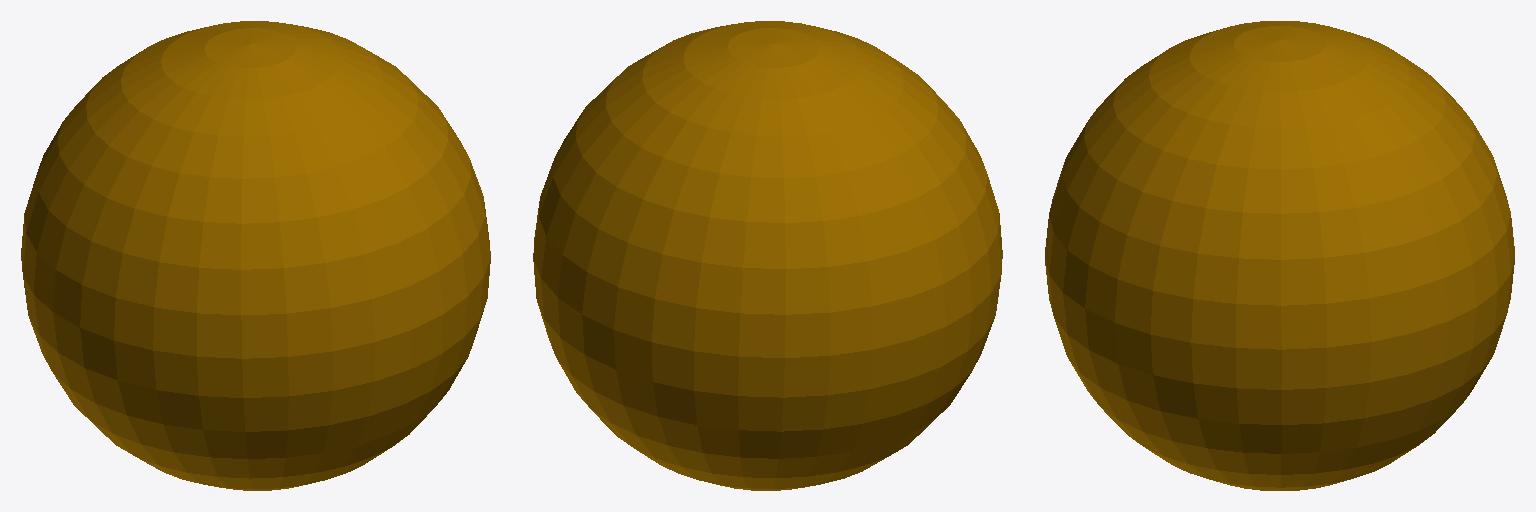
Rendered from Chicken-1.obj.
3 renders of one model, left to right at view 1: azimuth 30°, elevation 25°; view 2: azimuth 150°, elevation 25°; view 3: azimuth 270°, elevation 25°, orthographic.
Parts seen in each view (by area): view 1: Sphere; view 2: Sphere; view 3: Sphere.
Boxes of the visible parts, x1=… form: Sphere: x1=21, y1=21, x2=490, y2=490; Sphere: x1=533, y1=21, x2=1002, y2=490; Sphere: x1=1045, y1=21, x2=1514, y2=490.
Size of the model in its own units: 2.45 by 2.45 by 2.45.